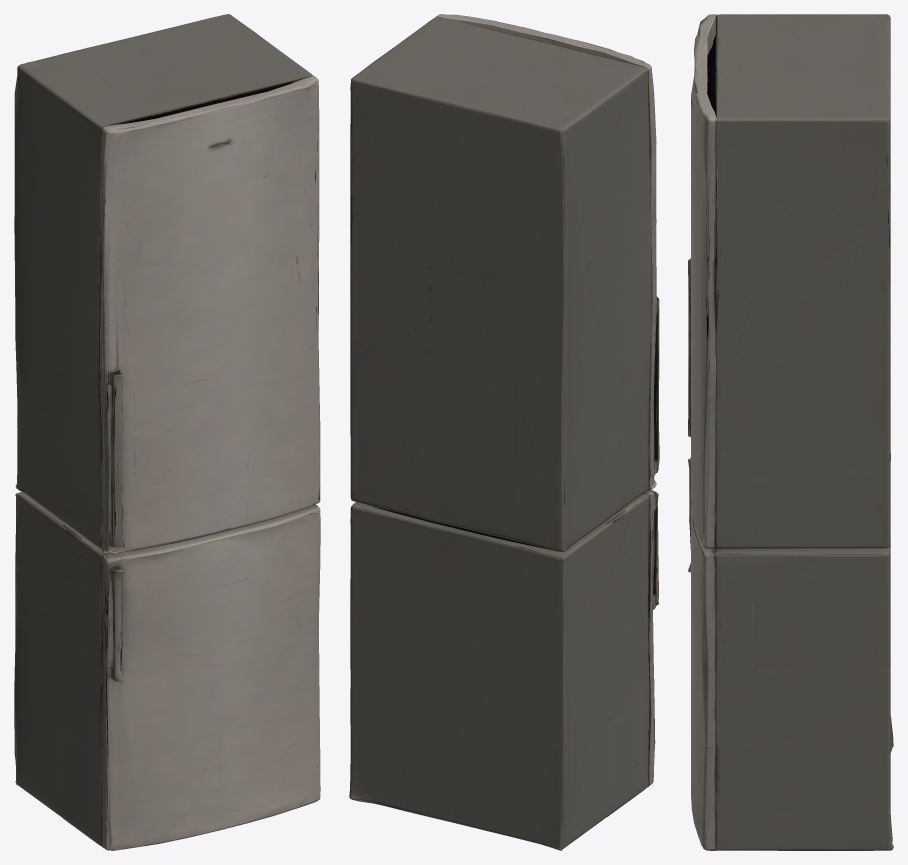
The model's file is desktop.glb.
3 views of the same model, side by side, from view 1: azimuth 30°, elevation 25°; view 2: azimuth 150°, elevation 25°; view 3: azimuth 270°, elevation 25° (orthographic).
Parts seen in each view (by area): view 1: fridge; view 2: fridge; view 3: fridge.
Part boxes in pixels (left/top/right/bottom): fridge: left=14, top=14, right=320, bottom=850; fridge: left=349, top=14, right=659, bottom=850; fridge: left=688, top=14, right=893, bottom=850.
Size of the model in its own units: 0.5669 by 1.8 by 0.458.
Materials: 1 (1 with a texture image).
